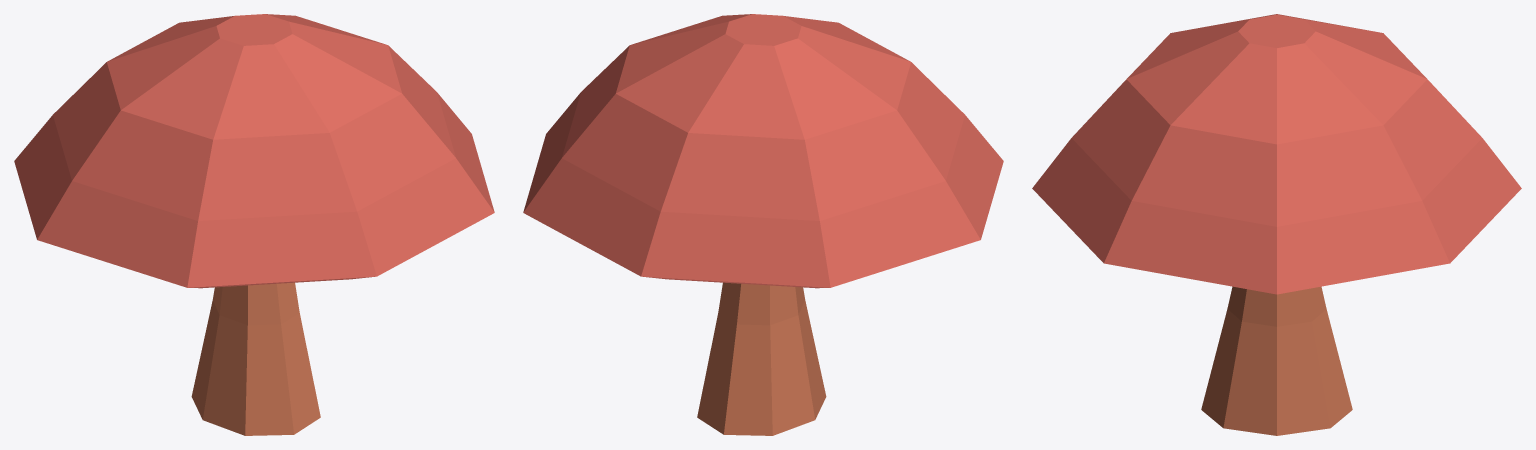
File: ENV_Mushroom01_Placeholder02.fbx
3 renders of one model, left to right at view 1: azimuth 30°, elevation 25°; view 2: azimuth 150°, elevation 25°; view 3: azimuth 270°, elevation 25°, orthographic.
Visible parts, largest first — view 1: Circle.002; view 2: Circle.002; view 3: Circle.002.
Boxes of the visible parts, x1=… form: Circle.002: x1=14, y1=14, x2=494, y2=435; Circle.002: x1=523, y1=14, x2=1003, y2=435; Circle.002: x1=1032, y1=14, x2=1521, y2=435.
Size of the model in its own units: 58.45 by 59.92 by 49.72.
